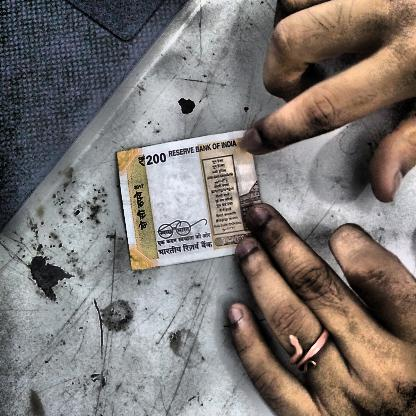Rs200: (135, 149, 169, 170)
